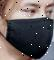with_mask: (2, 1, 54, 60)
